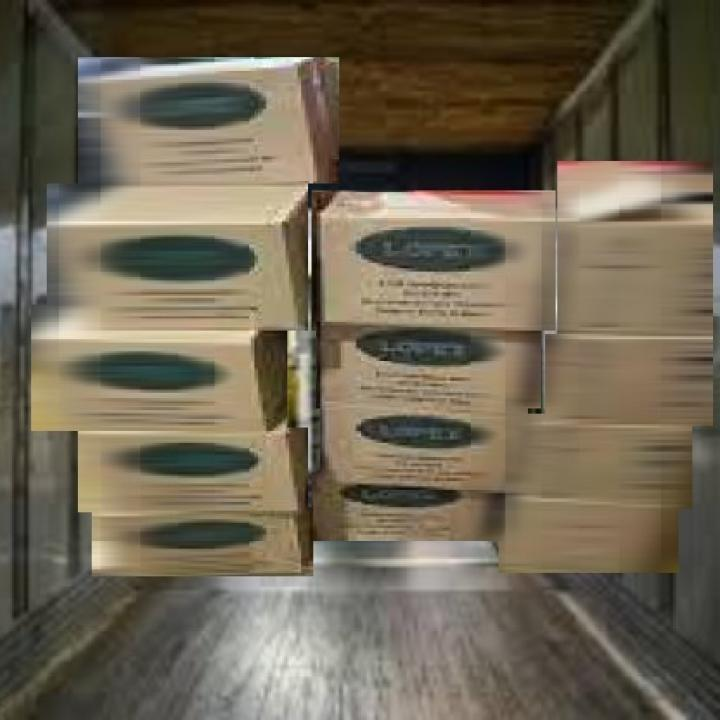box: (44, 183, 314, 333), (309, 189, 560, 334), (75, 56, 344, 186), (27, 303, 293, 434), (556, 159, 716, 339), (318, 401, 532, 499), (74, 428, 314, 514), (312, 325, 544, 411), (524, 414, 696, 510), (497, 487, 682, 576), (544, 334, 716, 428), (90, 507, 317, 578), (309, 472, 504, 543)
